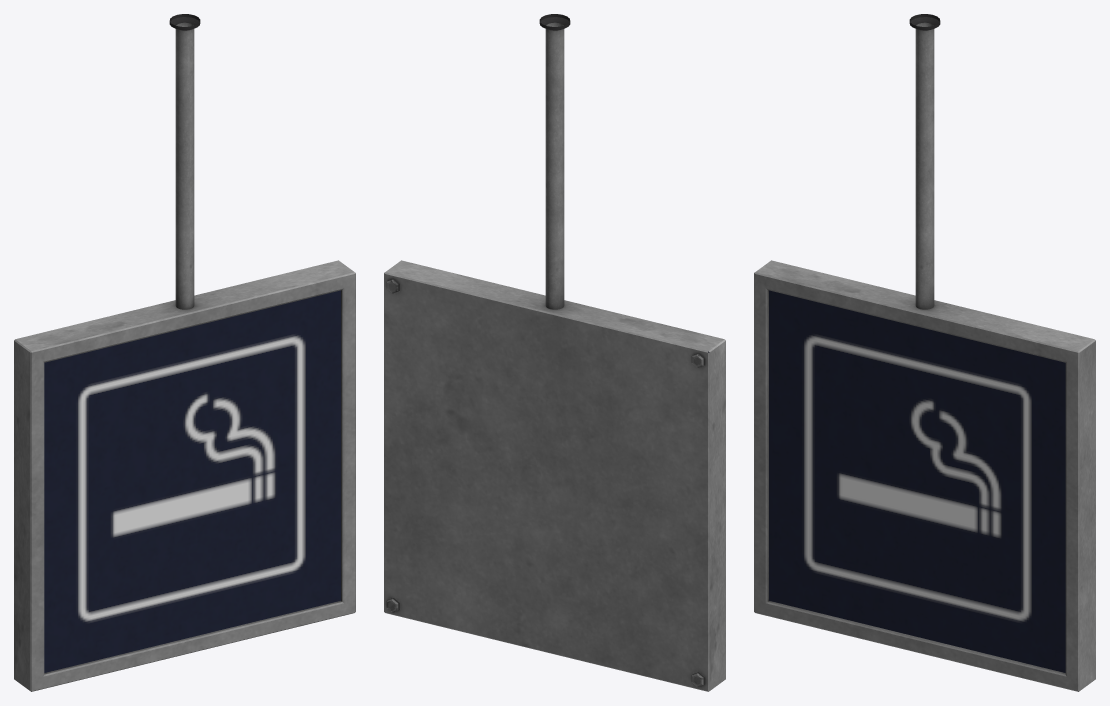
File: infosigns_0002_top.fbx
3 renders of one model, left to right at view 1: azimuth 30°, elevation 25°; view 2: azimuth 150°, elevation 25°; view 3: azimuth 330°, elevation 25°, orthographic.
Parts seen in each view (by area): view 1: infosigns_0002_top_19; view 2: infosigns_0002_top_19; view 3: infosigns_0002_top_19.
Boxes of the visible parts, left/top/right/bottom form: infosigns_0002_top_19: left=14, top=14, right=355, bottom=691; infosigns_0002_top_19: left=384, top=14, right=725, bottom=691; infosigns_0002_top_19: left=754, top=14, right=1095, bottom=691.
Size of the model in its own units: 0.5033 by 0.9247 by 0.0514.
